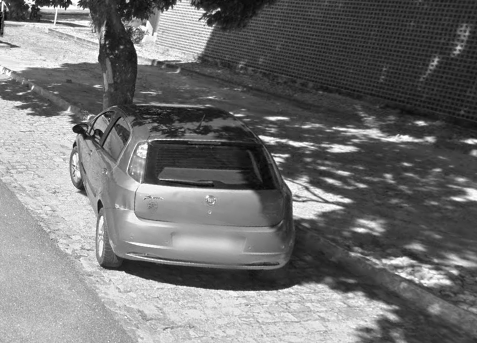car: (63, 95, 301, 294)
